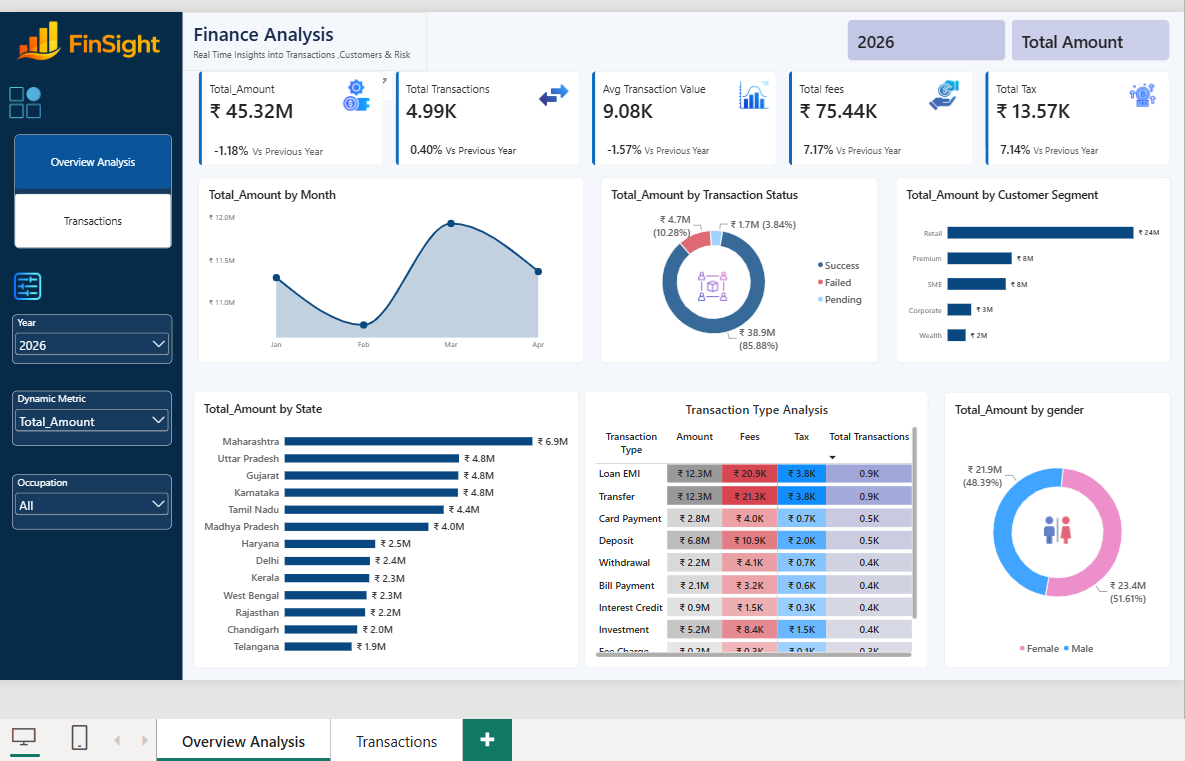

The page's visual inventory and layout, read from the dashboard file:
{"tool":"powerbi","page":{"name":"Overview Analysis","canvas":[1920,1080],"ordinal":0},"visuals":[{"type":"shape","box":[0,0,300,1080.6],"z":0},{"type":"textbox","box":[0,45.3,228.5,49.4],"z":1000},{"type":"image","box":[0,0,300.5,94.7],"z":2000},{"type":"cardVisual","fields":{"Data":["finance_transactions.DashBoard Title"]},"box":[300.5,0,395.2,94.7],"z":3000},{"type":"cardVisual","fields":{"Data":["finance_transactions.Total_Amount","finance_transactions.Total Transactions","finance_transactions.Avg Transaction Value","finance_transactions.Total fees","finance_transactions.Total Tax"]},"box":[325.2,94.7,1572.6,154.4],"z":4000},{"type":"slicer","fields":{"Values":["Calendar_Table.Year"]},"box":[24.3,489.2,259.3,80.3],"z":5000},{"type":"image","box":[555.7,109.1,50,50],"z":6000},{"type":"image","box":[874.8,109.1,50,50],"z":7000},{"type":"image","box":[1506.7,109.1,50,50],"z":8000},{"type":"image","box":[1197.9,109.1,50,50],"z":9000},{"type":"image","box":[1827.8,109.1,50,50],"z":10000},{"type":"slicer","fields":{"Values":["Dynamic Metric.Dynamic Metric"]},"box":[24.3,612.5,258.8,88.9],"z":11000},{"type":"shape","box":[333.4,267.6,615,300],"z":12000},{"type":"areaChart","title":"Total_Amount by Month","fields":{"Category":["Calendar_Table.Month"],"Y":["finance_transactions.Total_Amount"]},"box":[325.2,267.6,623.7,300.5],"z":13000},{"type":"cardVisual","fields":{"Data":["finance_transactions.Selected year","finance_transactions.Selected Dynamic Measure"]},"box":[1375,12.3,522.8,67.9],"z":14000},{"type":"shape","box":[975.6,267.6,448.7,300.5],"z":15000},{"type":"donutChart","fields":{"Category":["finance_transactions.transaction_status"],"Y":["finance_transactions.Total_Amount"]},"box":[975.6,267.6,448.7,300.5],"z":16000},{"type":"shape","box":[1453.2,267.6,444.6,300.5],"z":17000},{"type":"barChart","fields":{"Category":["customers.customer_segment"],"Y":["finance_transactions.Total_Amount"]},"box":[1453.2,267.6,444.6,300.5],"z":18000},{"type":"shape","box":[325.2,613.4,615.4,448.7],"z":19000},{"type":"barChart","fields":{"Category":["customers.state"],"Y":["finance_transactions.Total_Amount"]},"box":[317,613.4,623.7,448.7],"z":20000},{"type":"shape","box":[975.6,613.4,531,448.7],"z":21000},{"type":"tableEx","title":"Transaction Type Analysis","fields":{"Values":["finance_transactions.transaction_type","finance_transactions.Total_Amount","finance_transactions.Total fees","finance_transactions.Total Tax","finance_transactions.Total Transactions"]},"box":[950.9,613.4,555.7,448.7],"z":22000},{"type":"shape","box":[1532.3,612.5,365.9,448.8],"z":23000},{"type":"donutChart","fields":{"Category":["customers.gender"],"Y":["finance_transactions.Total_Amount"]},"box":[1532.3,614.5,365.9,446.7],"z":24000},{"type":"image","box":[1132,418.4,50,50],"z":25000},{"type":"image","box":[1690,812.6,50,50],"z":26000},{"type":"slicer","fields":{"Values":["customers.occupation"]},"box":[24.3,747.9,258.8,88.9],"z":27000},{"type":"image","box":[20.2,121.3,50,50],"z":28000},{"type":"image","box":[24.3,418.4,50,50],"z":29000},{"type":"bookmarkNavigator","box":[0,0,600,50],"z":30000},{"type":"pageNavigator","box":[28.3,198.1,254.7,184],"z":31000}]}

Visuals, with their boxes on the page's 1920x1080 design canvas (x1, y1, x2, y2). These are canvas units, not pixel positions in the 1185x761 screenshot, which may show the page scaled, cropped or inside an application window:
shape: detection(0, 0, 300, 1081)
textbox: detection(0, 45, 228, 95)
image: detection(0, 0, 300, 95)
cardVisual - finance_transactions.DashBoard Title: detection(300, 0, 696, 95)
cardVisual - finance_transactions.Total_Amount x finance_transactions.Total Transactions: detection(325, 95, 1898, 249)
slicer - Calendar_Table.Year: detection(24, 489, 284, 570)
image: detection(556, 109, 606, 159)
image: detection(875, 109, 925, 159)
image: detection(1507, 109, 1557, 159)
image: detection(1198, 109, 1248, 159)
image: detection(1828, 109, 1878, 159)
slicer - Dynamic Metric.Dynamic Metric: detection(24, 612, 283, 701)
shape: detection(333, 268, 948, 568)
"Total_Amount by Month" areaChart: detection(325, 268, 949, 568)
cardVisual - finance_transactions.Selected year x finance_transactions.Selected Dynamic Measure: detection(1375, 12, 1898, 80)
shape: detection(976, 268, 1424, 568)
donutChart - finance_transactions.transaction_status x finance_transactions.Total_Amount: detection(976, 268, 1424, 568)
shape: detection(1453, 268, 1898, 568)
barChart - customers.customer_segment x finance_transactions.Total_Amount: detection(1453, 268, 1898, 568)
shape: detection(325, 613, 941, 1062)
barChart - customers.state x finance_transactions.Total_Amount: detection(317, 613, 941, 1062)
shape: detection(976, 613, 1507, 1062)
"Transaction Type Analysis" tableEx: detection(951, 613, 1507, 1062)
shape: detection(1532, 612, 1898, 1061)
donutChart - customers.gender x finance_transactions.Total_Amount: detection(1532, 614, 1898, 1061)
image: detection(1132, 418, 1182, 468)
image: detection(1690, 813, 1740, 863)
slicer - customers.occupation: detection(24, 748, 283, 837)
image: detection(20, 121, 70, 171)
image: detection(24, 418, 74, 468)
bookmarkNavigator: detection(0, 0, 600, 50)
pageNavigator: detection(28, 198, 283, 382)
